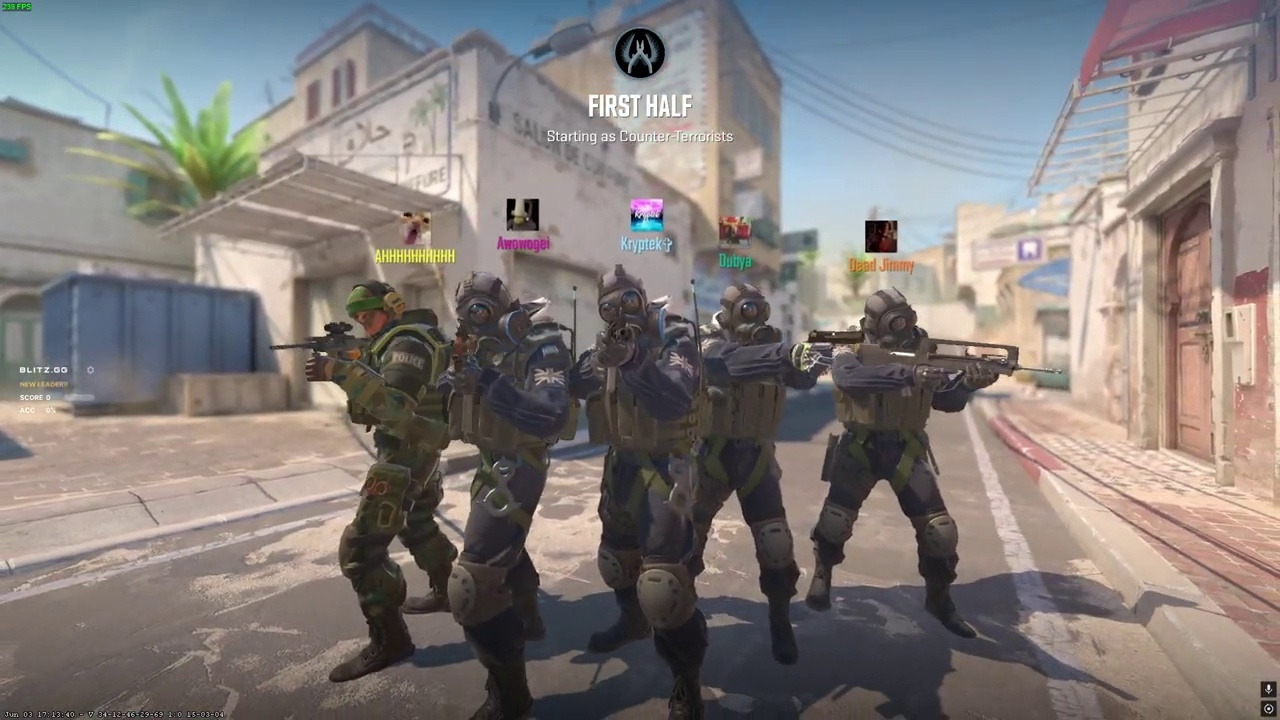CT: (429, 270, 575, 720), (568, 263, 710, 720), (805, 285, 986, 636), (311, 279, 458, 683), (698, 281, 827, 665)
